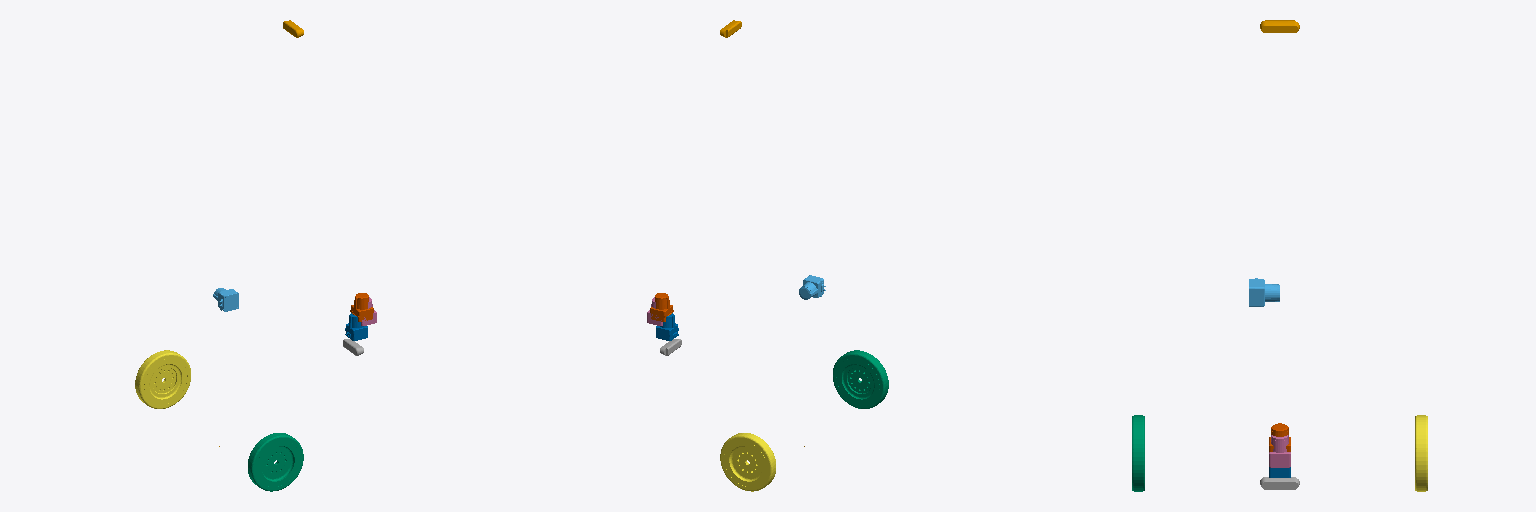
URDF robot description (amr_desc):
<?xml version="1.0" encoding="utf-8"?>
<!-- This URDF was automatically created by SolidWorks to URDF Exporter! Originally created by Stephen Brawner ([email redacted]) 
     Commit Version: 1.5.1-0-g916b5db  Build Version: 1.5.7152.31018
     For more information, please see http://wiki.ros.org/sw_urdf_exporter -->
<robot name="amr_desc">
  <link name="base_footprint">
      <visual>
          <origin xyz="0 0 0" rpy="0 0 0"/>
          <geometry>
              <box size="0.001 0.001 0.001"/>
          </geometry>
      </visual>
  </link>

  <joint name="base_footprint_joint" type="fixed">
      <!--origin xyz="0 0 0" rpy="0 0 0"/-->
      <origin xyz="0 0 0.08" rpy="0 0 0"/>   <!--zy 0 0 0.1-->       
      <parent link="base_footprint"/>
      <child link="base_link"/>
  </joint>
  
  <link name="base_link">
    <visual>
      <origin xyz="0 0 0" rpy="0 0 0" />
      <geometry>
        <mesh filename="package://amr_desc/meshes/base_link.STL" />
      </geometry>
    </visual>
  </link>
  
  <link name="rightw_Link">
    <visual>
      <origin xyz="0 0 0" rpy="0 0 0" />
      <geometry>
        <mesh filename="package://amr_desc/meshes/rightw_Link.STL" />
      </geometry>
    </visual>
  </link>
  
  <joint name="Joint right" type="revolute">
    <origin xyz="0 -0.32 0" rpy="0 0 0" />
    <parent link="base_link" />
    <child link="rightw_Link" />
    <axis xyz="0 1 0" />
    <limit lower="0" upper="0" effort="0" velocity="0" />
  </joint>
  
  <link name="leftw_Link">
    <visual>
      <origin xyz="0 0 0" rpy="0 0 0" />
      <geometry>
        <mesh filename="package://amr_desc/meshes/leftw_Link.STL" />
      </geometry>
    </visual>
  </link>
  
  <joint name="Joint left" type="revolute">
    <origin xyz="0 0.32 0" rpy="0 0 0" />
    <parent link="base_link" />
    <child link="leftw_Link" />
    <axis xyz="0 -1 0" />
    <limit lower="0" upper="0" effort="0" velocity="0" />
  </joint>
  
  <link name="amr_laser">
    <visual>
      <origin xyz="0 0 0" rpy="0 0 0" />
      <geometry>
        <mesh filename="package://amr_desc/meshes/radiar_Link.STL" />
      </geometry>
    </visual>
  </link>
  
  <joint name="joint_laser" type="fixed">
    <!--origin xyz="0.5 0 0.2" rpy="0 0 0" /-->  
    <origin xyz="0.452 0 0.16" rpy="0 0 0" />   <!--zy 0.67 0 0.2-->
    <parent link="base_link" />
    <child link="amr_laser" />
    <axis xyz="0 0 0" />
  </joint>
  
  <link name="camera_link">
    <visual>
     <origin xyz="0 0 0" rpy="0 0 0" />
     <geometry>
       <mesh filename="package://amr_desc/meshes/radiar_Link.STL" />
     </geometry>
   </visual>
  </link>
 
  <!--joint name="joint_camera" type="fixed">
    <origin xyz="0.72 0 0.22" rpy="0 0.506 0" />
    <parent link="base_link" />
    <child link="camera_link" />
    <axis xyz="0 0 0" />
  </joint-->

  <joint name="joint_camera" type="fixed">
   <origin xyz="0.47 0.0 0.215" rpy="0 0 0" />
   <parent link="base_link" />
   <child link="camera_link" />
   <axis xyz="0 0 0" />
  </joint>

  <link name="intel_camera_link">
    <visual>
     <origin xyz="0 0 0" rpy="0 0 0" />
     <geometry>
       <mesh filename="package://amr_desc/meshes/radiar_Link.STL" />
     </geometry>
   </visual>
  </link>

  <joint name="joint_intel_camera" type="fixed">
   <origin xyz="0.48 0.0 0.2" rpy="0 0 0" />
   <parent link="base_link" />
   <child link="intel_camera_link" />
   <axis xyz="0 0 0" />
  </joint>

  <link name="dcamera_Link">
    <visual>
      <origin xyz="0 0 0" rpy="0 0 0" />
      <geometry>
        <mesh filename="package://amr_desc/meshes/dcamera_Link.STL" />
      </geometry>
    </visual>
  </link>
  
  <joint name="joint_dcamera" type="fixed">
    <origin xyz="0.452 0 0.13" rpy="0 0 0" />
    <parent link="base_link" />
    <child link="dcamera_Link" />
    <axis xyz="0 0 0" />
  </joint>
  
  <link name="ucamera_link">
    <visual>
      <origin xyz="0 0 0" rpy="0 0 0" />
      <geometry>
        <mesh filename="package://amr_desc/meshes/ucamera_Link.STL" />
      </geometry>
    </visual>
  </link>
  
  <joint name="joint_ucamera" type="fixed">
    <!--origin xyz="0.254735226280623 0 1.17570215806429" rpy="0 -0.523598775598294 0" /-->
    <origin xyz="0.254735226280623 0 1.17570215806429" rpy="0 0 0" />
    <parent link="base_link" />
    <child link="ucamera_link" />
    <axis xyz="0 0 0" />
  </joint>
  
  <link name="amr_imu">
    <visual>
      <origin xyz="0 0 0" rpy="0 0 0" />
      <geometry>
        <mesh filename="package://amr_desc/meshes/radiar_Link.STL" />
      </geometry>
    </visual>
  </link>
  
  <joint name="joint_imu" type="fixed">
    <origin xyz="0 -0.07 0.4 " rpy="-1.5707963 0 0" />
    <parent link="base_link" />
    <child link="amr_imu" />
    <axis xyz="0 0 0" />
  </joint>
</robot>
  
  

--- Render facts (derived) ---
3 views of the same robot in one strip: view 1: azimuth 30°, elevation 25°; view 2: azimuth 150°, elevation 25°; view 3: azimuth 270°, elevation 25° (orthographic).
Robot: amr_desc — 10 links, 9 joints (2 revolute, 7 fixed); root link base_footprint; default pose: every joint at zero.
Links seen in each view (by area): view 1: leftw_Link, rightw_Link; view 2: rightw_Link, leftw_Link; view 3: rightw_Link, leftw_Link, amr_imu, intel_camera_link.
Boxes of the visible links, <box> form: leftw_Link: <box>135,350,190,408</box>; rightw_Link: <box>248,433,303,491</box>; rightw_Link: <box>833,350,888,408</box>; leftw_Link: <box>720,433,775,491</box>; rightw_Link: <box>1132,415,1144,491</box>; leftw_Link: <box>1415,415,1427,491</box>; amr_imu: <box>1249,278,1279,306</box>; intel_camera_link: <box>1269,435,1290,467</box>.
Bounding box of the posed robot: 0.591 × 0.67 × 1.27 m (x, y, z).
Meshes: 6 distinct files referenced, 8 mesh visuals loaded (5 binary STL); not drawn: 1 (reference not matched to a file when rendering).
